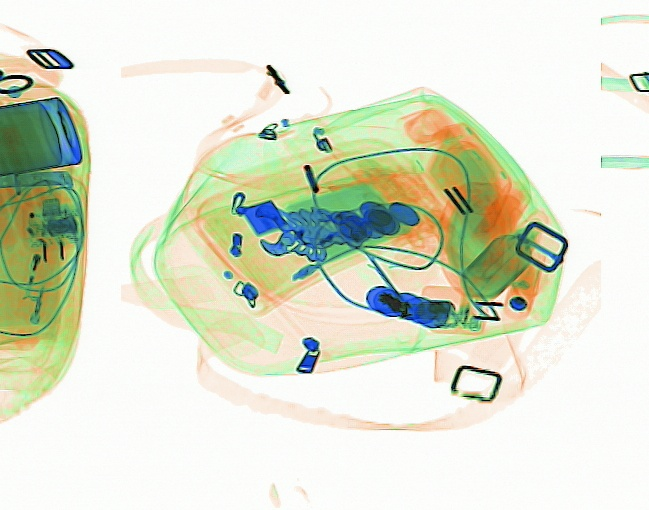lighter: (13, 222, 62, 324)
